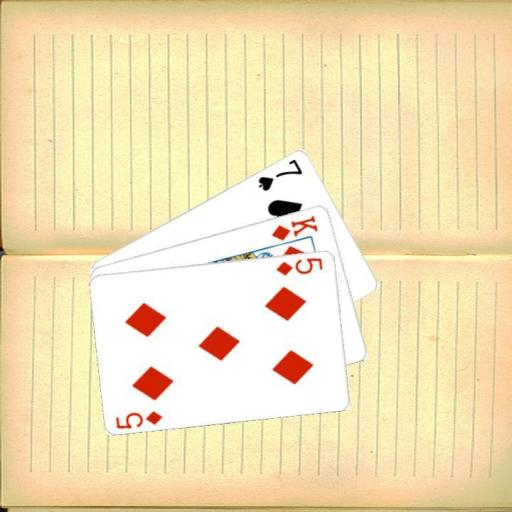card-corner: (254, 155, 304, 193), (268, 212, 320, 242), (273, 254, 324, 276), (113, 408, 164, 430)
